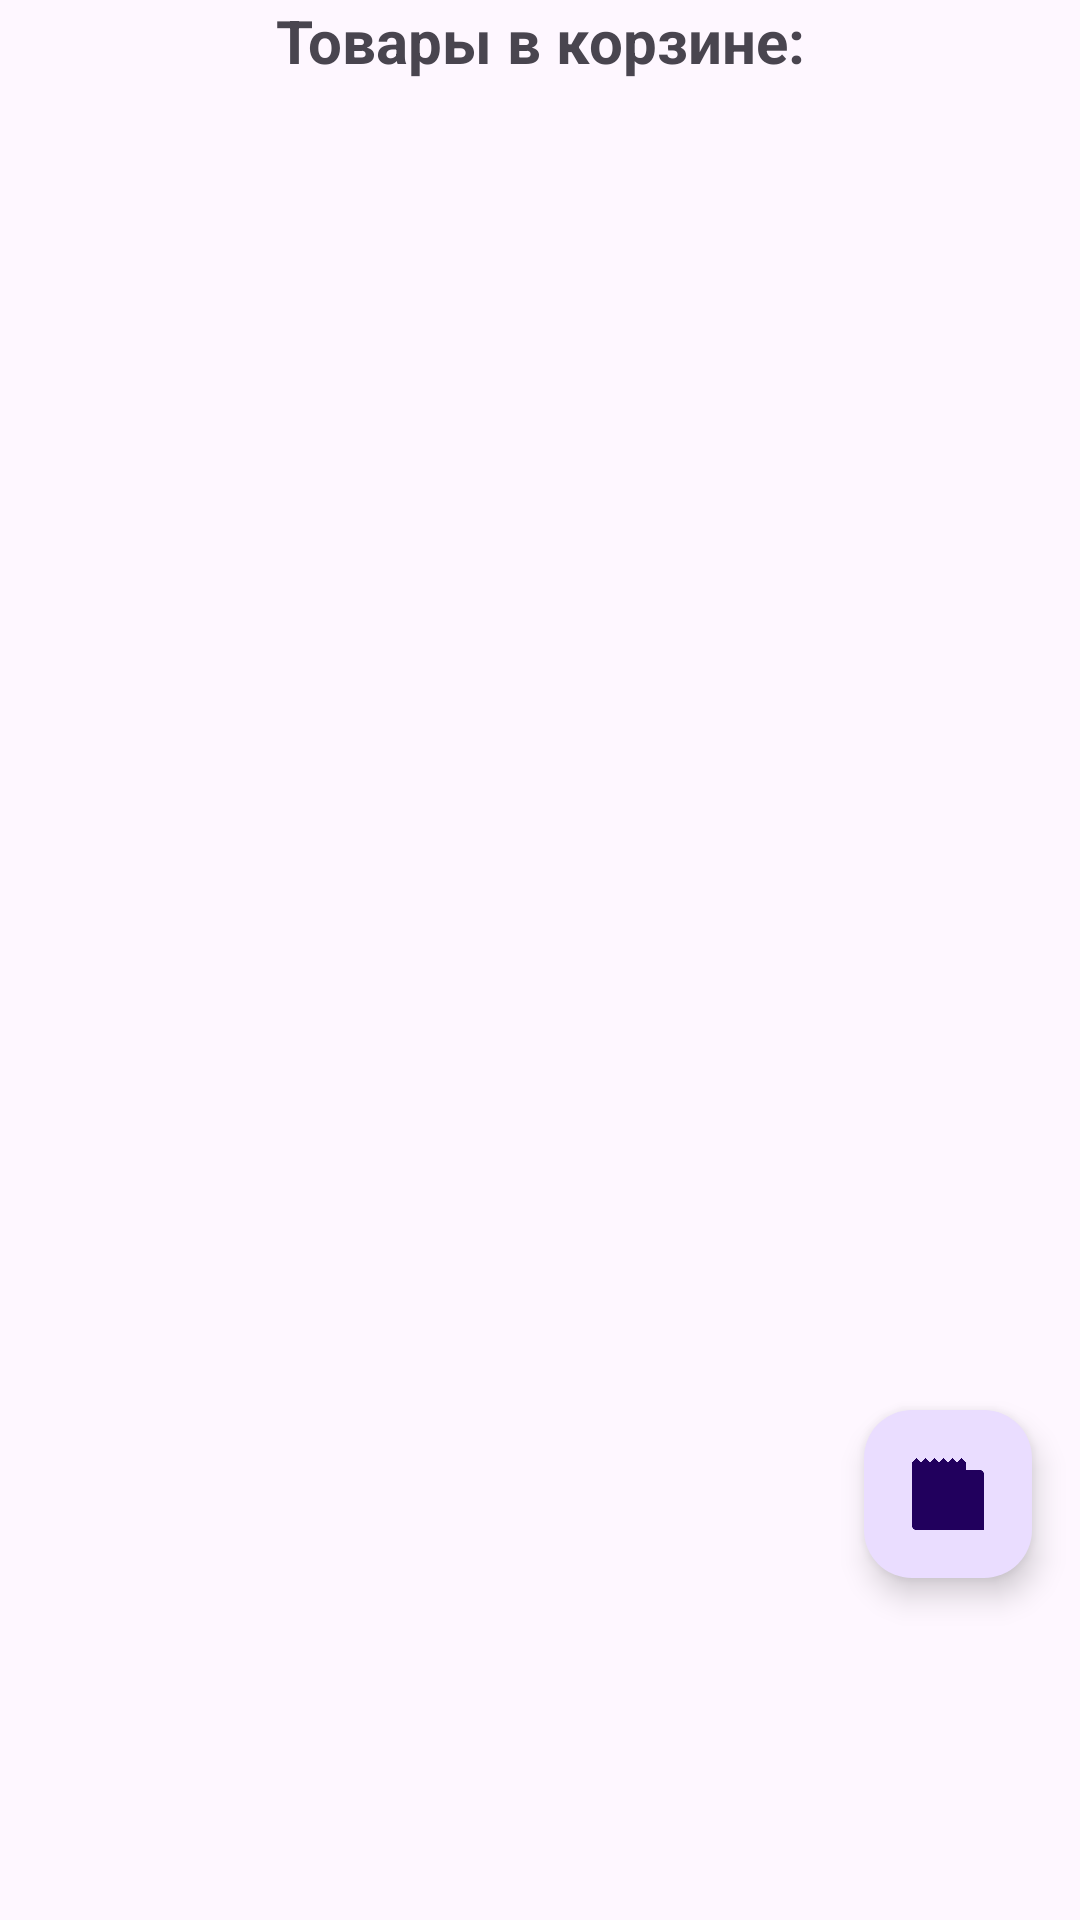

Named icons in this screenshot (1080*1920) and their bounding boxes, (x1, y1, x2, y2):
receipt: (912, 1458, 984, 1530)
